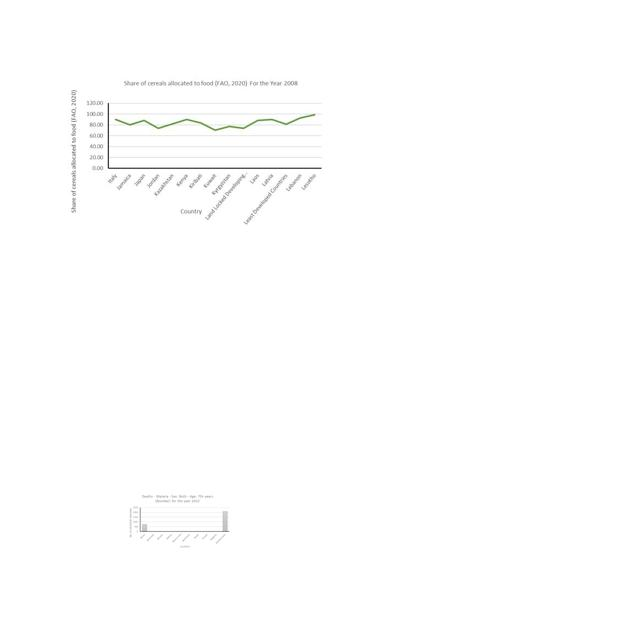Graph: (63, 73, 330, 229), (129, 494, 231, 549)
